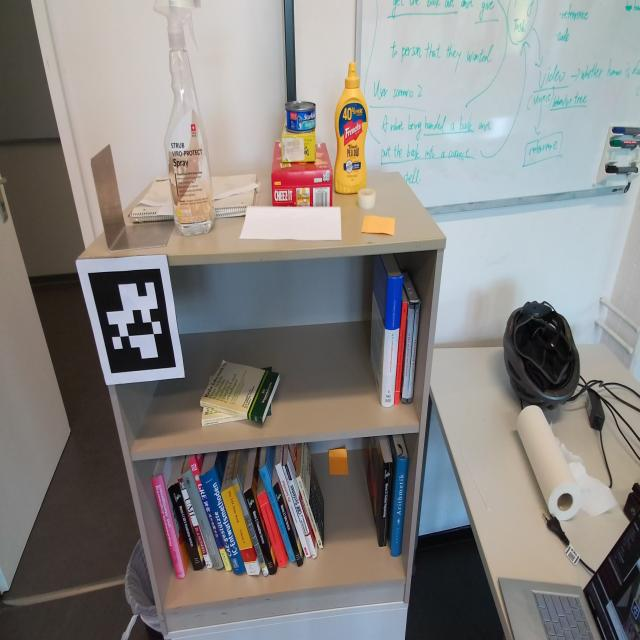Book Spine: (199, 465, 246, 574), (188, 457, 232, 571), (181, 468, 224, 570), (231, 476, 269, 577), (258, 463, 296, 562), (152, 474, 186, 579), (221, 485, 260, 575), (275, 463, 311, 558), (282, 463, 317, 559), (168, 483, 204, 571), (177, 478, 212, 568), (381, 275, 403, 408), (244, 487, 277, 574), (273, 482, 303, 567), (257, 491, 287, 567), (296, 474, 323, 549), (391, 456, 409, 557), (200, 401, 263, 424), (394, 302, 408, 404), (407, 303, 420, 403), (402, 305, 415, 403), (379, 462, 393, 547), (201, 415, 245, 427), (266, 410, 271, 416)
